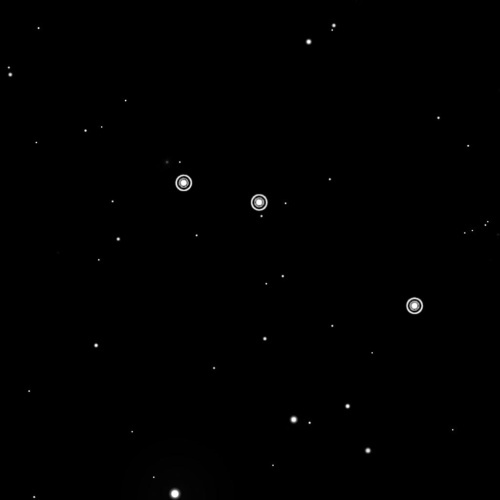vulpecula: (169, 167, 429, 318)
